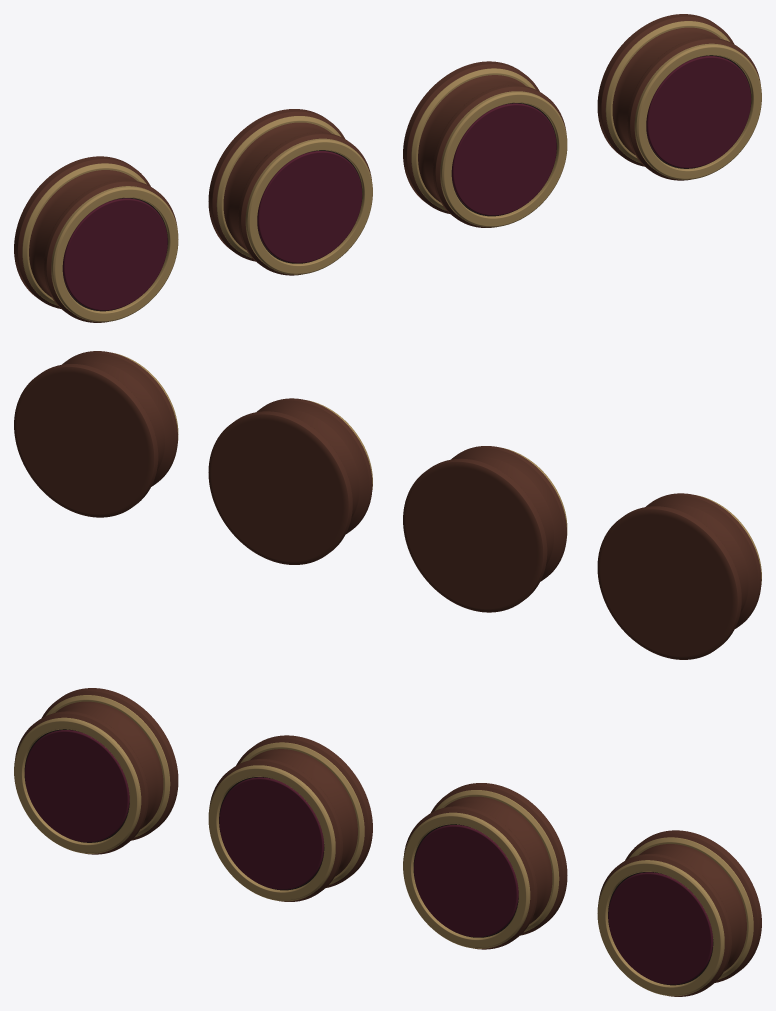
Rendered from StatueSlots.fbx.
3 views of the same model, one above another, from view 1: azimuth 30°, elevation 25°; view 2: azimuth 150°, elevation 25°; view 3: azimuth 330°, elevation 25° (orthographic).
Visible parts, largest first — view 1: DisplayBase_01_EmptyDisplayPad, DisplayBase_04_EmptyDisplayPad, DisplayBase_02_EmptyDisplayPad, DisplayBase_03_EmptyDisplayPad, DisplayBase_01_TurnedMahogany, DisplayBase_03_TurnedMahogany, DisplayBase_04_TurnedMahogany, DisplayBase_02_TurnedMahogany, DisplayBase_02_UpperBrassRim, DisplayBase_04_UpperBrassRim, DisplayBase_03_UpperBrassRim, DisplayBase_01_UpperBrassRim (+4 smaller); view 2: DisplayBase_03_TurnedMahogany, DisplayBase_01_TurnedMahogany, DisplayBase_04_TurnedMahogany, DisplayBase_02_TurnedMahogany; view 3: DisplayBase_01_EmptyDisplayPad, DisplayBase_04_EmptyDisplayPad, DisplayBase_02_EmptyDisplayPad, DisplayBase_03_EmptyDisplayPad, DisplayBase_02_TurnedMahogany, DisplayBase_04_TurnedMahogany, DisplayBase_01_TurnedMahogany, DisplayBase_03_TurnedMahogany, DisplayBase_03_UpperBrassRim, DisplayBase_01_UpperBrassRim, DisplayBase_02_UpperBrassRim, DisplayBase_04_UpperBrassRim (+4 smaller).
Boxes of the visible parts, <box> form: DisplayBase_01_EmptyDisplayPad: <box>62,198,167,310</box>; DisplayBase_04_EmptyDisplayPad: <box>646,56,751,168</box>; DisplayBase_02_EmptyDisplayPad: <box>257,151,362,263</box>; DisplayBase_03_EmptyDisplayPad: <box>451,103,556,215</box>; DisplayBase_01_TurnedMahogany: <box>14,156,176,322</box>; DisplayBase_03_TurnedMahogany: <box>403,61,566,227</box>; DisplayBase_04_TurnedMahogany: <box>597,14,760,180</box>; DisplayBase_02_TurnedMahogany: <box>208,109,371,275</box>; DisplayBase_02_UpperBrassRim: <box>245,138,372,274</box>; DisplayBase_04_UpperBrassRim: <box>634,43,761,179</box>; DisplayBase_03_UpperBrassRim: <box>440,91,567,227</box>; DisplayBase_01_UpperBrassRim: <box>51,186,178,322</box>; DisplayBase_03_TurnedMahogany: <box>208,398,372,564</box>; DisplayBase_01_TurnedMahogany: <box>597,493,761,659</box>; DisplayBase_04_TurnedMahogany: <box>14,351,177,517</box>; DisplayBase_02_TurnedMahogany: <box>403,446,566,612</box>; DisplayBase_01_EmptyDisplayPad: <box>24,730,129,842</box>; DisplayBase_04_EmptyDisplayPad: <box>608,872,713,984</box>; DisplayBase_02_EmptyDisplayPad: <box>219,777,324,889</box>; DisplayBase_03_EmptyDisplayPad: <box>413,825,518,937</box>; DisplayBase_02_TurnedMahogany: <box>209,735,372,901</box>; DisplayBase_04_TurnedMahogany: <box>599,830,761,996</box>; DisplayBase_01_TurnedMahogany: <box>15,688,178,854</box>; DisplayBase_03_TurnedMahogany: <box>404,783,567,949</box>; DisplayBase_03_UpperBrassRim: <box>403,812,530,948</box>; DisplayBase_01_UpperBrassRim: <box>14,717,141,853</box>; DisplayBase_02_UpperBrassRim: <box>208,765,335,901</box>; DisplayBase_04_UpperBrassRim: <box>597,860,724,996</box>.
Size of the model in its own units: 0.484 by 0.094 by 0.039.
